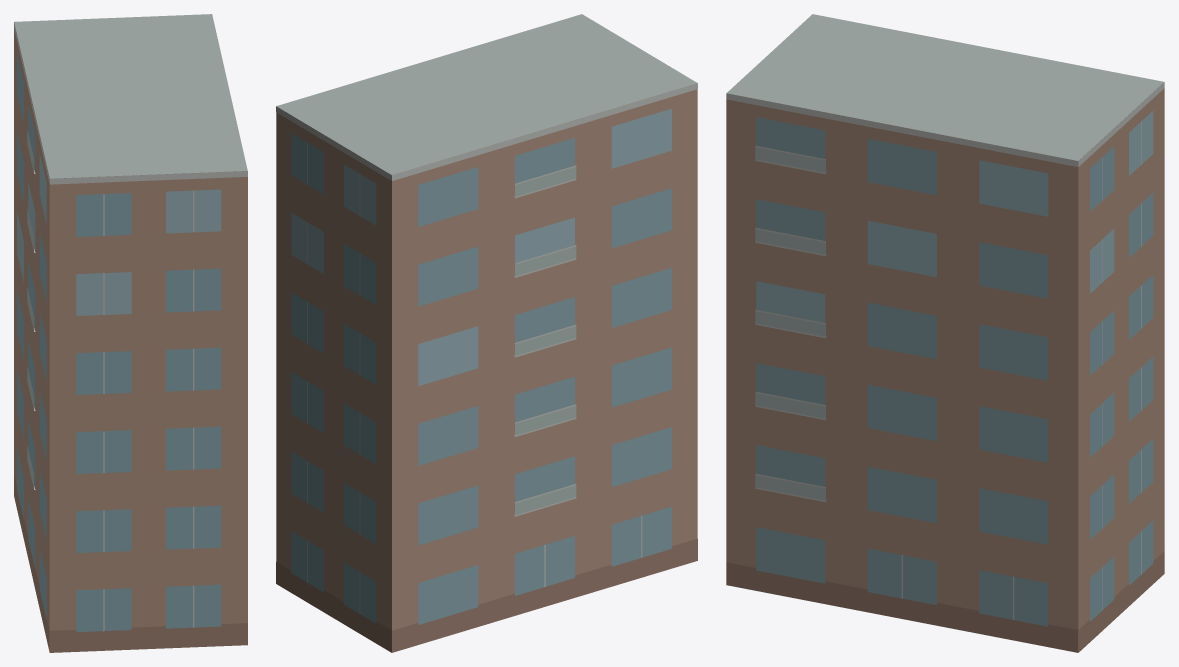
Rendered from survey-upis-33030533.glb.
3 renders of one model, left to right at view 1: azimuth 30°, elevation 25°; view 2: azimuth 150°, elevation 25°; view 3: azimuth 270°, elevation 25°, orthographic. The views are drawn at different scales.
Visible parts, largest first — view 1: survey-upis-33030533.tmp; view 2: survey-upis-33030533.tmp; view 3: survey-upis-33030533.tmp.
Part boxes in pixels (x1,y1,x2,y2): survey-upis-33030533.tmp: (14, 14, 247, 652); survey-upis-33030533.tmp: (276, 14, 697, 652); survey-upis-33030533.tmp: (726, 14, 1164, 652).
Bounding box in the file's own units: 12.51 × 19.5 × 15.75.
